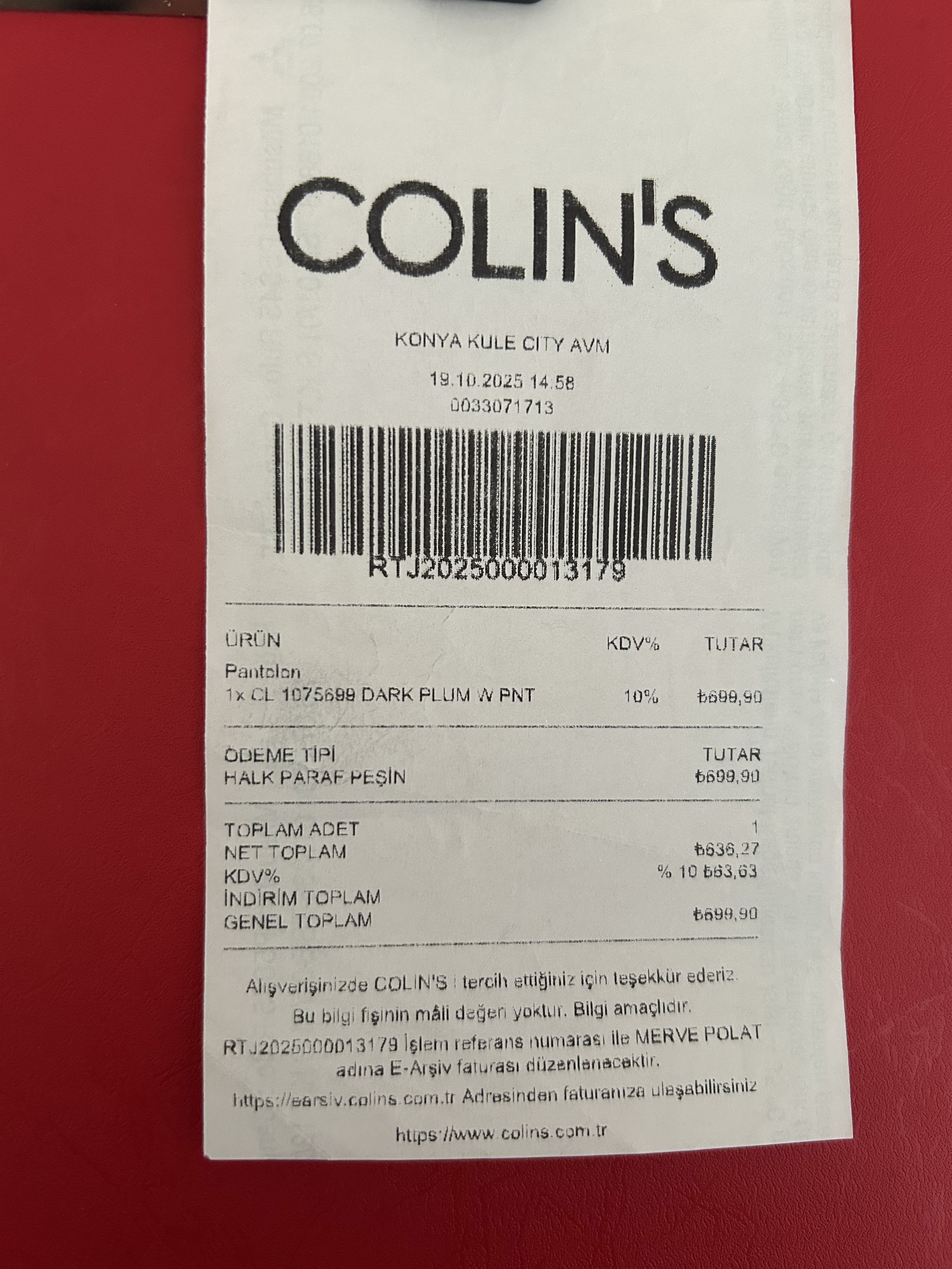date: (683, 896, 777, 929)
price: (423, 362, 528, 391)
workplace: (384, 316, 619, 358)
